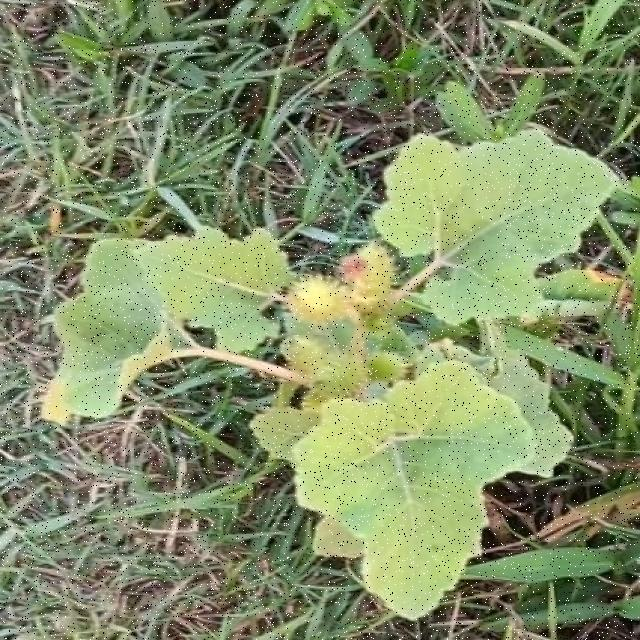weed: (44, 131, 619, 620)
